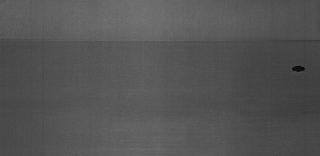punching hole: (290, 64, 306, 74)
welding line: (2, 34, 318, 46)
